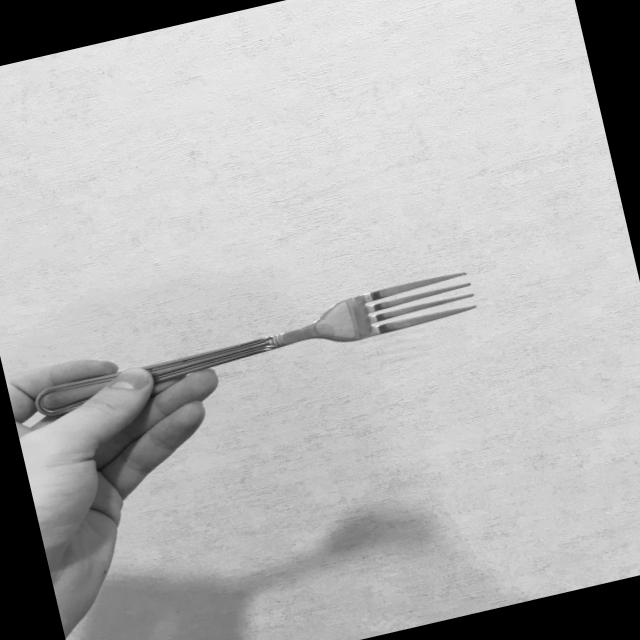fork: (13, 264, 486, 422)
